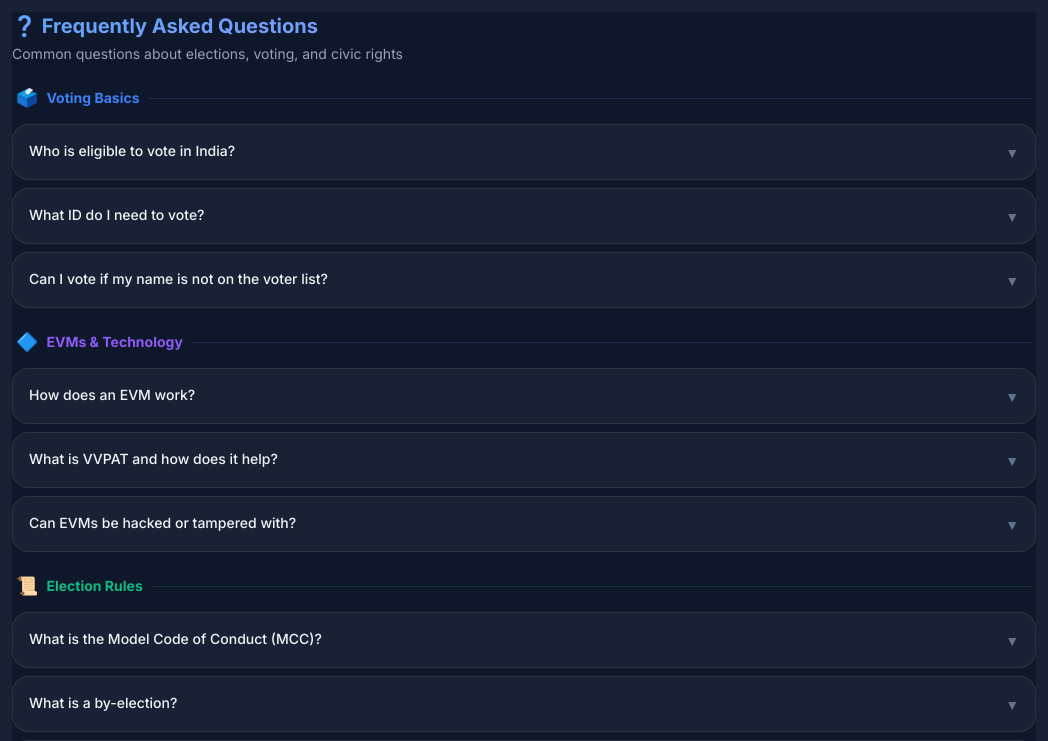
Scenario: FAQSection – Accordion Open/Close › clicking a question opens its answer
This screenshot has width=1048, height=741.
Click the button "Who is eligible to vote in India? ▼": click(132, 150) [12,124,1036,180]
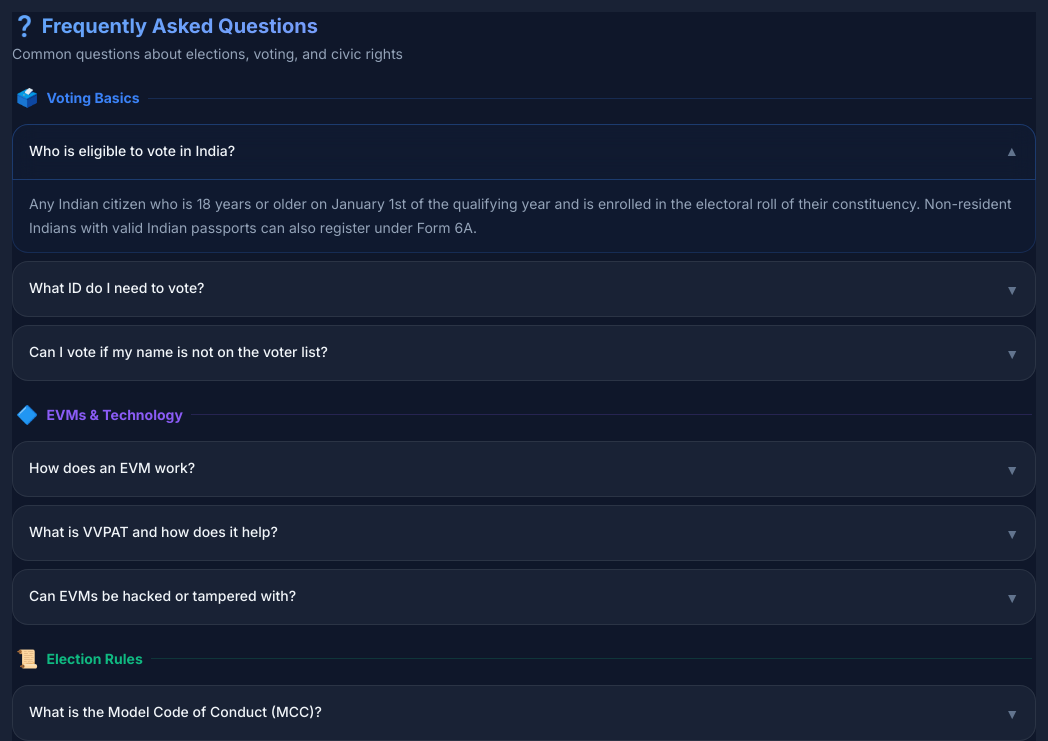
Result: the text "Any Indian citizen who is 18 years or older" is shown at [29,195,1012,236]
